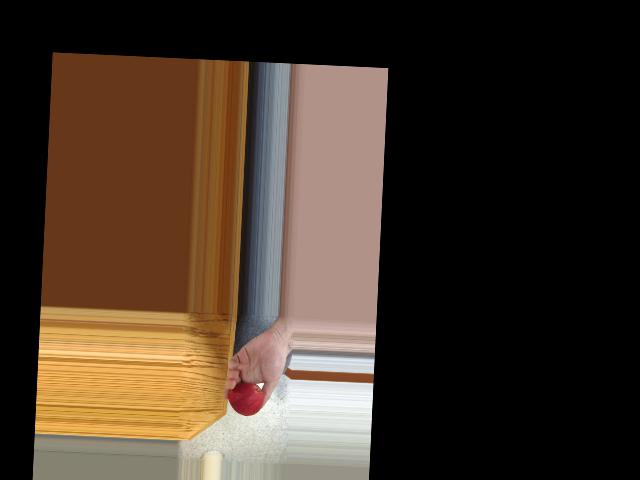apple: (228, 381, 265, 418)
